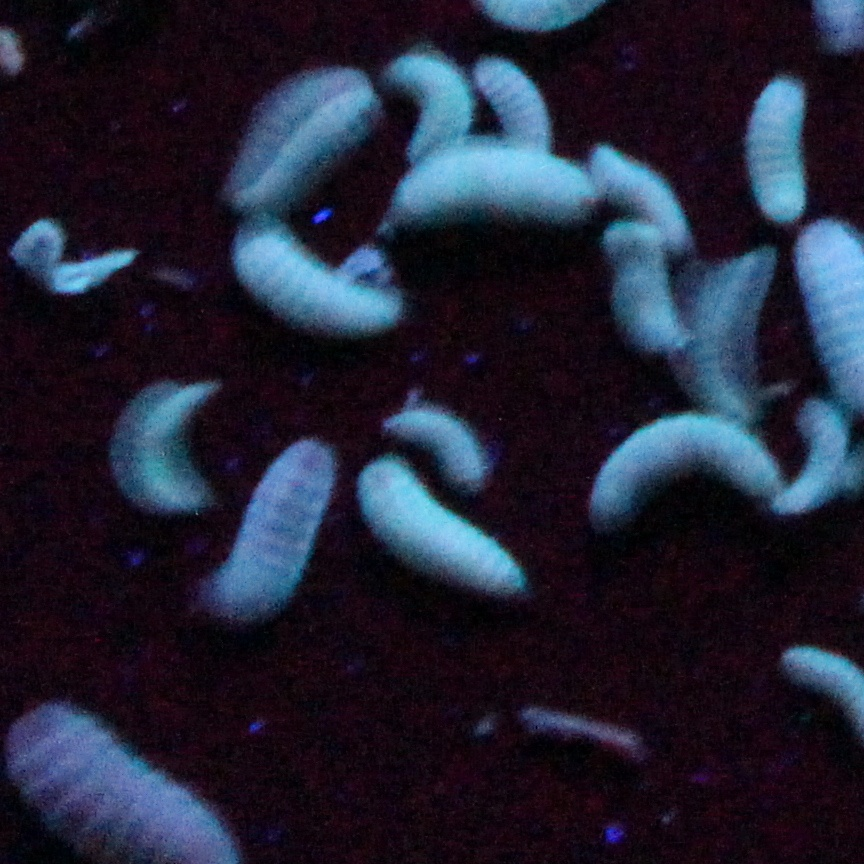larve: (360, 465, 527, 600), (585, 418, 777, 525), (221, 443, 333, 607), (231, 226, 398, 334), (241, 78, 373, 204), (394, 153, 595, 219), (690, 253, 762, 411), (600, 225, 684, 353), (131, 384, 208, 508), (385, 53, 471, 156), (597, 144, 686, 241), (388, 406, 489, 486), (471, 55, 548, 147), (784, 401, 841, 512), (755, 83, 802, 215)
